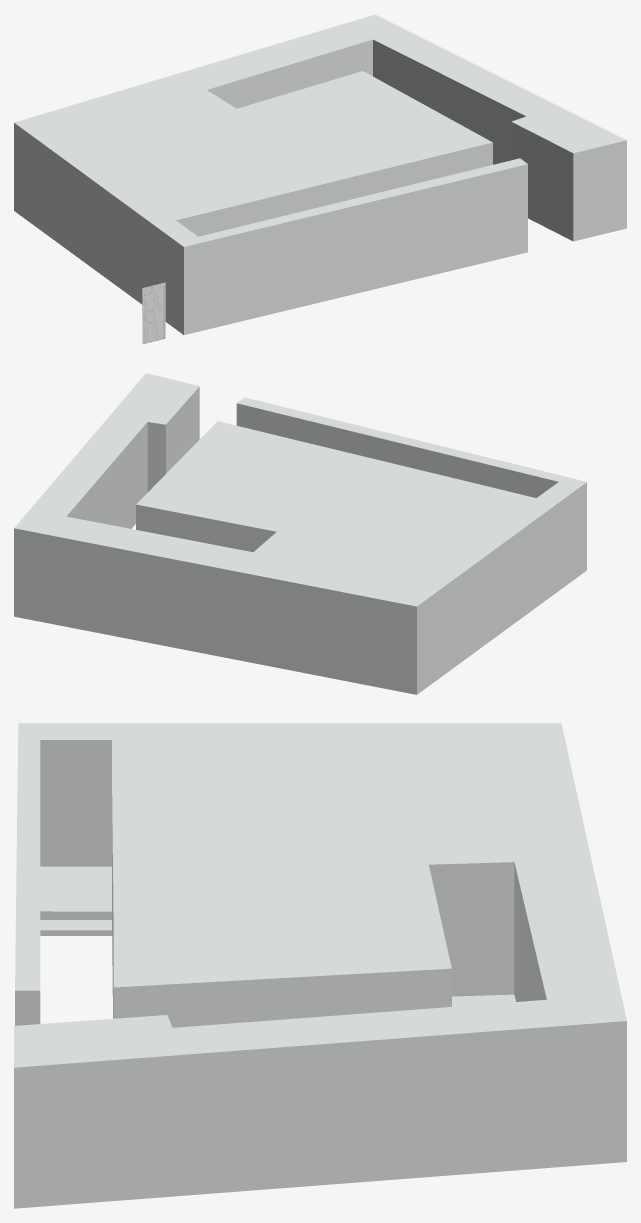
3 views of the same model, one above another, from view 1: azimuth 30°, elevation 25°; view 2: azimuth 150°, elevation 25°; view 3: azimuth 270°, elevation 25° (orthographic). The views are drawn at different scales.
Visible parts, largest first — view 1: Mesh1 Model, Mesh2 Model; view 2: Mesh1 Model; view 3: Mesh1 Model.
Part boxes in pixels (x1=…): Mesh1 Model: x1=14, y1=14, x2=626, y2=334; Mesh2 Model: x1=142, y1=282, x2=165, y2=344; Mesh1 Model: x1=14, y1=373, x2=586, y2=694; Mesh1 Model: x1=14, y1=723, x2=626, y2=1208.
Bounding box in the file's own units: 14.31 × 2.5 × 9.85.
2 materials, 2 textured.
